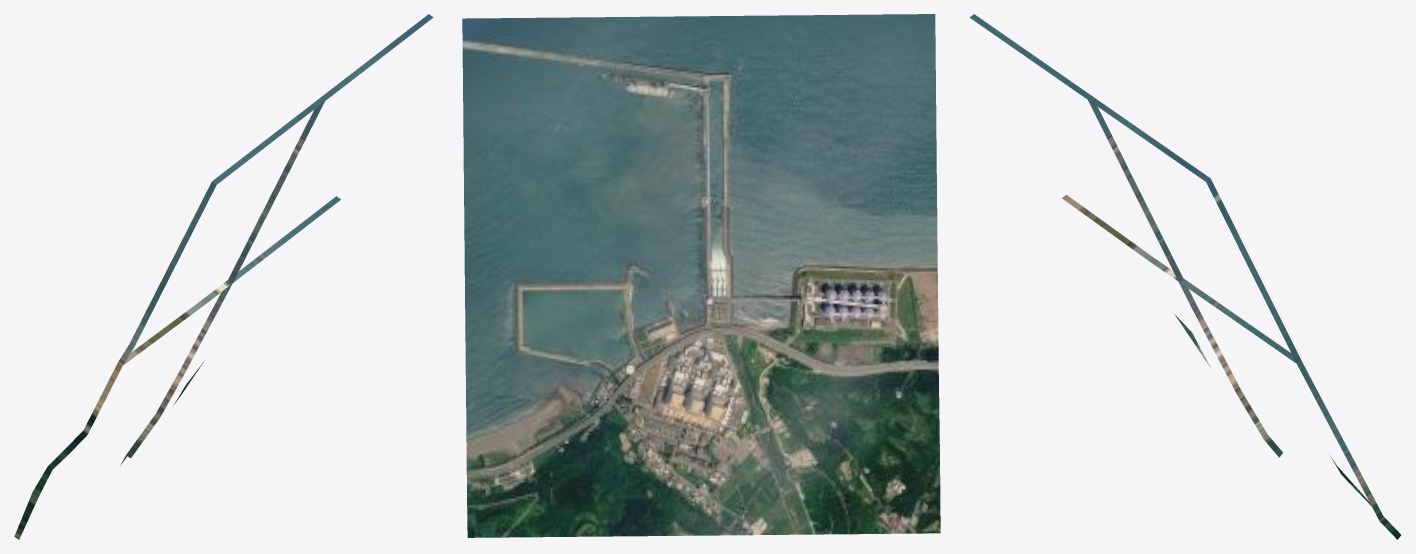
3 renders of one model, left to right at view 1: azimuth 30°, elevation 25°; view 2: azimuth 150°, elevation 25°; view 3: azimuth 270°, elevation 25°, orthographic. The views are drawn at different scales.
Size of the model in its own units: 2484 by 2205 by 2105.
Materials: 1 (1 with a texture image).
